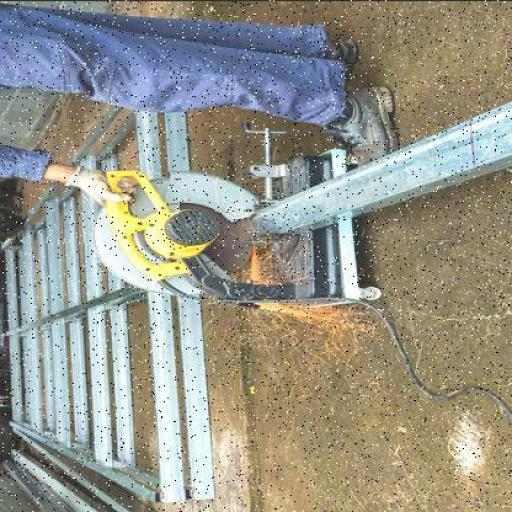safety_shoe: (328, 80, 406, 172)
